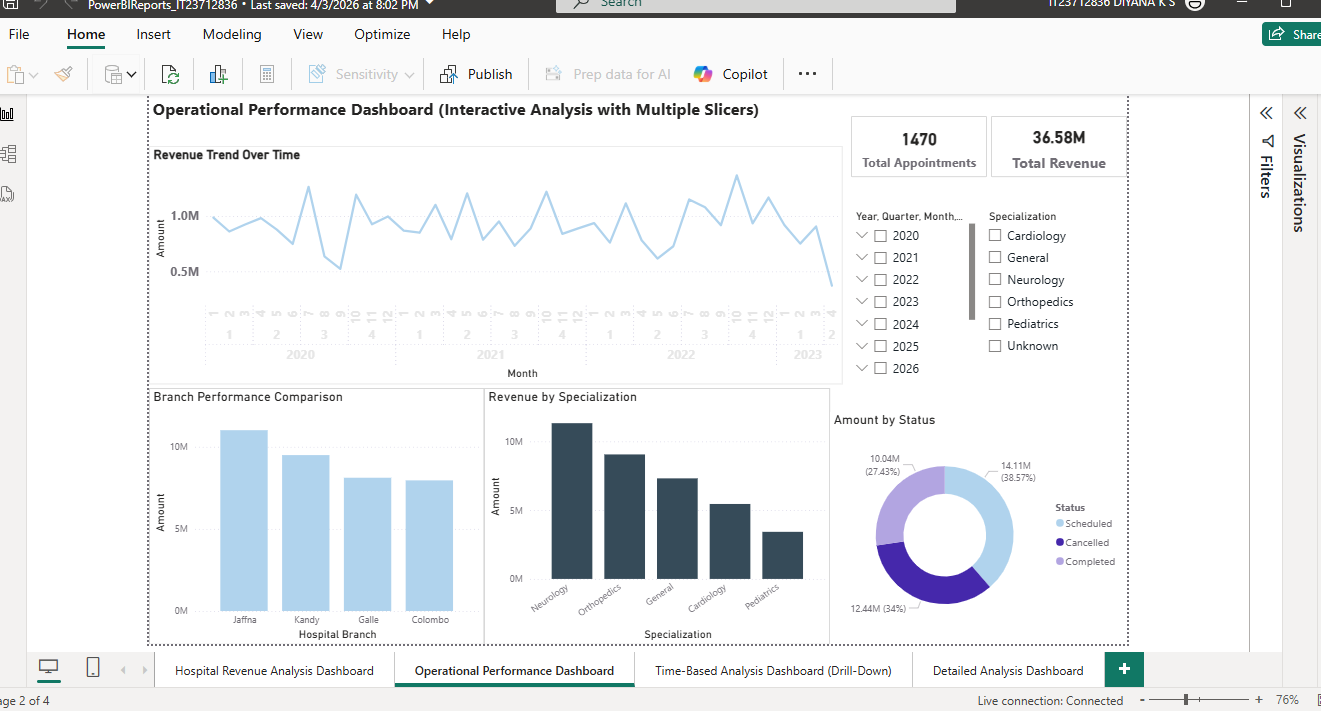

This screenshot's page, from the dashboard's own definition file:
{"tool":"powerbi","page":{"name":"Operational Performance Dashboard","canvas":[1280,720],"ordinal":1},"visuals":[{"type":"card","fields":{"Values":["Fact Billing.Amount"]},"box":[1101.7,28.3,178.3,80],"z":0},{"type":"card","fields":{"Values":["Fact Billing.Fact Billing Count"]},"box":[918.3,28.3,178.3,80],"z":1000},{"type":"lineChart","title":"Revenue Trend Over Time","fields":{"Y":["Fact Billing.Amount"],"Category":["Dim Date.DateHierarchy.Year","Dim Date.DateHierarchy.Quarter","Dim Date.DateHierarchy.Month"]},"box":[0,68.3,908.3,311.7],"z":2000},{"type":"clusteredColumnChart","title":"Branch Performance Comparison","fields":{"Category":["Dim Doctor.Hospital Branch"],"Y":["Fact Billing.Amount"]},"box":[0,384.4,439.1,335.9],"z":3000},{"type":"clusteredColumnChart","title":"Revenue by Specialization","fields":{"Category":["Dim Doctor.Specialization"],"Y":["Fact Billing.Amount"]},"box":[439.1,384.4,453.1,335.9],"z":4000},{"type":"donutChart","fields":{"Category":["Dim Appointment.Status"],"Y":["Fact Billing.Amount"]},"box":[891.7,416.7,388.3,303.3],"z":5000},{"type":"slicer","fields":{"Values":["Dim Appointment.Specialization"]},"box":[1086.5,147.1,178.1,211.6],"z":6000},{"type":"slicer","fields":{"Values":["Dim Date.DateHierarchy.Year","Dim Date.DateHierarchy.Quarter","Dim Date.DateHierarchy.Month","Dim Date.DateHierarchy.Day"]},"box":[912.3,147.1,174.2,237.4],"z":7000},{"type":"textbox","box":[0,0,918.4,52.4],"z":8000}]}

Visuals, with their boxes on the page's 1280x720 design canvas (x1, y1, x2, y2). These are canvas units, not pixel positions in the 1321x711 screenshot, which may show the page scaled, cropped or inside an application window:
card - Fact Billing.Amount: [x1=1102, y1=28, x2=1280, y2=108]
card - Fact Billing.Fact Billing Count: [x1=918, y1=28, x2=1097, y2=108]
"Revenue Trend Over Time" lineChart: [x1=0, y1=68, x2=908, y2=380]
"Branch Performance Comparison" clusteredColumnChart: [x1=0, y1=384, x2=439, y2=720]
"Revenue by Specialization" clusteredColumnChart: [x1=439, y1=384, x2=892, y2=720]
donutChart - Dim Appointment.Status x Fact Billing.Amount: [x1=892, y1=417, x2=1280, y2=720]
slicer - Dim Appointment.Specialization: [x1=1086, y1=147, x2=1265, y2=359]
slicer - Dim Date.DateHierarchy.Year x Dim Date.DateHierarchy.Quarter: [x1=912, y1=147, x2=1086, y2=384]
textbox: [x1=0, y1=0, x2=918, y2=52]
